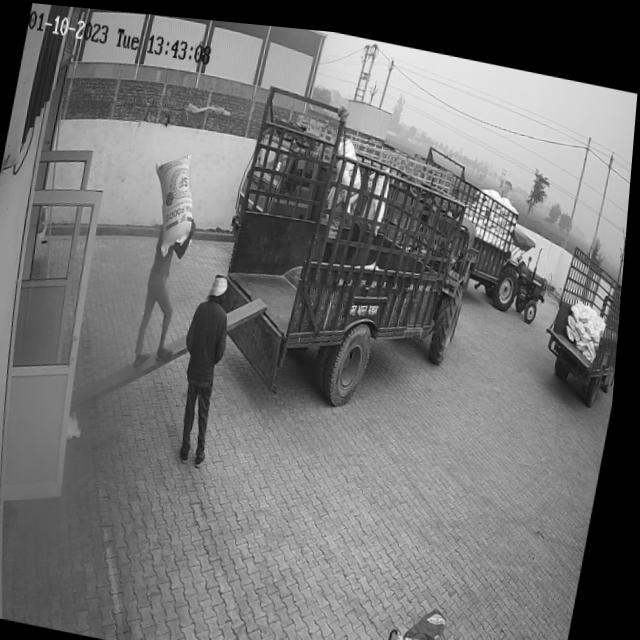sack: (144, 143, 207, 256)
